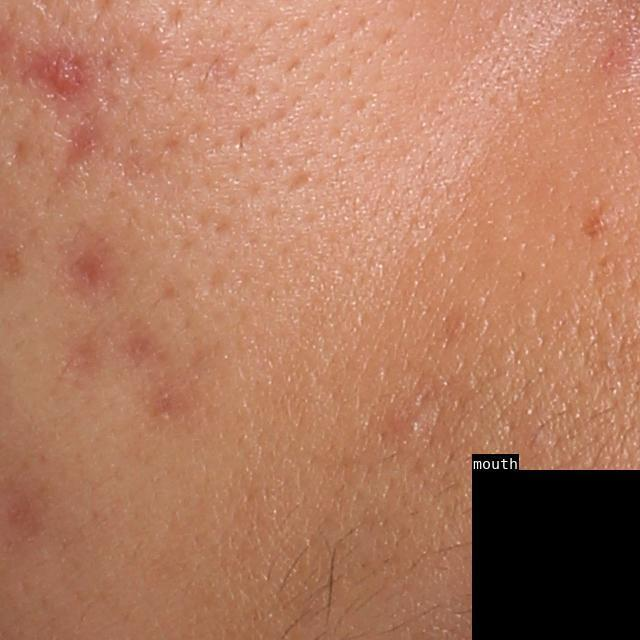atrophic_scar: (49, 113, 108, 197), (5, 133, 31, 170), (280, 172, 316, 195)
nevus: (579, 213, 608, 241)
papule: (41, 53, 80, 94)
